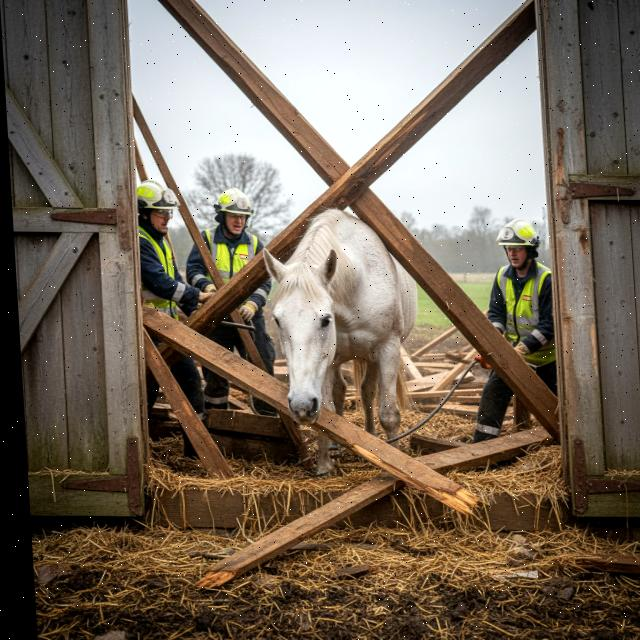horse: (246, 206, 440, 482)
rescuer: (462, 211, 574, 463), (126, 174, 221, 466), (182, 174, 287, 430)
